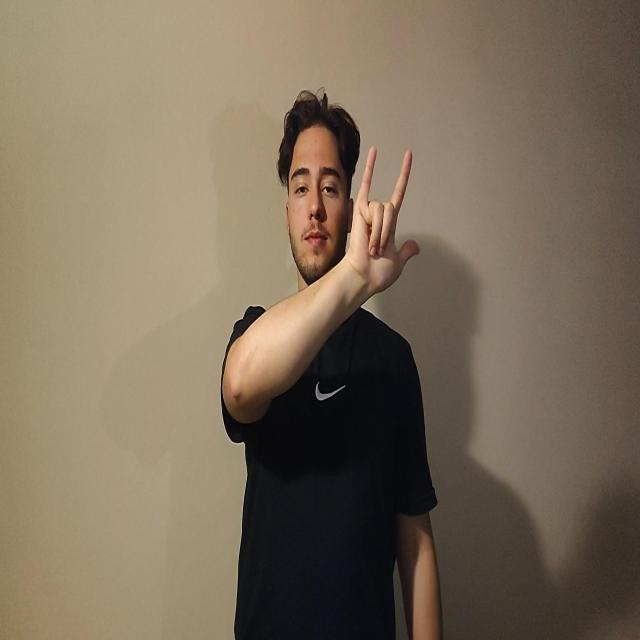iloveyou: (347, 144, 420, 302)
